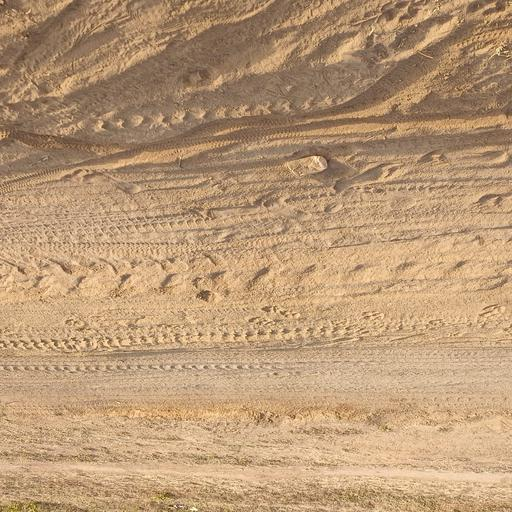vehicle_track: (0, 105, 512, 411)
